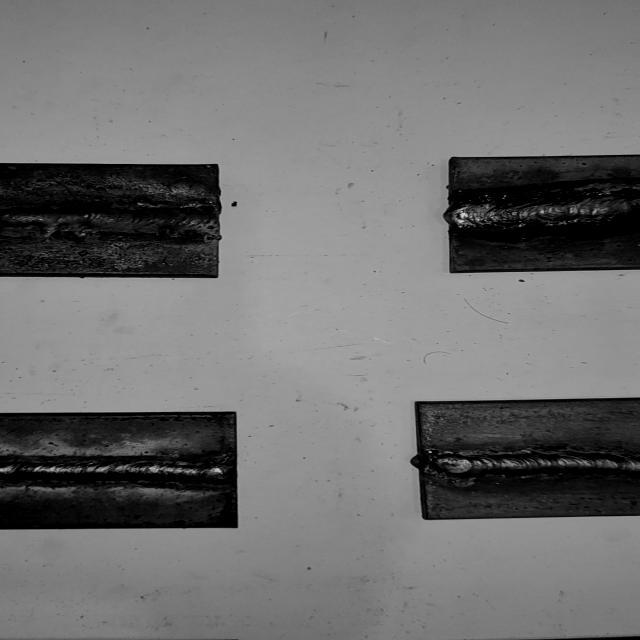Defect: (0, 196, 81, 245)
Welding Line: (0, 204, 217, 238), (451, 191, 640, 227), (424, 452, 640, 479), (0, 460, 235, 484)
Workpiece: (0, 404, 249, 531), (406, 396, 640, 525), (0, 158, 230, 282), (440, 149, 640, 277)
